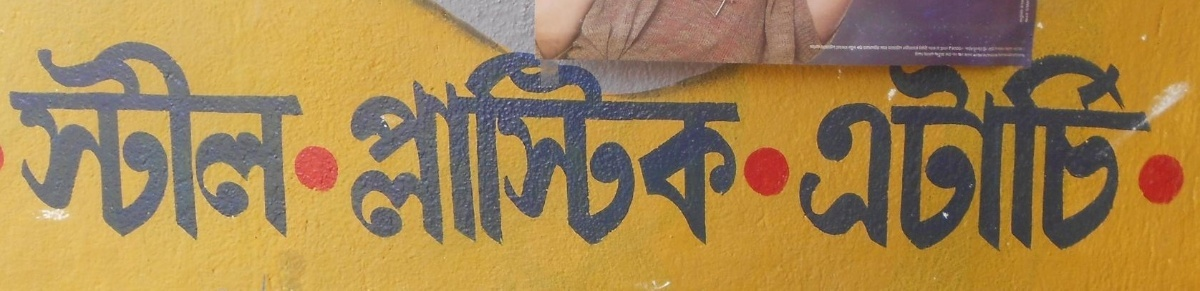text: (353, 49, 368, 254), (369, 49, 384, 254), (385, 49, 400, 254), (401, 49, 416, 254), (417, 49, 432, 254), (433, 49, 448, 254), (449, 49, 464, 254), (465, 49, 480, 254), (481, 49, 496, 254), (497, 49, 512, 254), (513, 49, 528, 254), (529, 49, 544, 254), (545, 49, 560, 254), (561, 49, 576, 254), (577, 49, 592, 254), (593, 49, 608, 254), (609, 49, 624, 254), (625, 49, 640, 254), (641, 49, 656, 254), (657, 49, 672, 254), (673, 49, 688, 254), (689, 49, 704, 254), (705, 49, 720, 254), (721, 49, 736, 254), (801, 52, 816, 255), (817, 52, 832, 255), (833, 52, 848, 255), (849, 52, 864, 255), (865, 52, 880, 255), (881, 52, 896, 255), (897, 52, 912, 255), (913, 52, 928, 255), (929, 52, 944, 255), (945, 52, 960, 255), (961, 52, 976, 255), (977, 52, 992, 255), (993, 52, 1008, 255), (1009, 52, 1024, 255), (1025, 52, 1040, 255), (1041, 52, 1056, 255), (1057, 52, 1072, 255), (1073, 52, 1088, 255), (1089, 52, 1104, 255), (1105, 52, 1120, 255), (1121, 52, 1136, 255), (1137, 52, 1152, 255), (17, 41, 32, 242), (33, 41, 48, 242), (49, 41, 64, 242), (65, 41, 80, 242), (81, 41, 96, 242), (97, 41, 112, 242), (113, 41, 128, 242), (129, 41, 144, 242), (145, 41, 160, 242), (161, 41, 176, 242), (177, 41, 192, 242), (193, 41, 208, 242), (209, 41, 224, 242), (225, 41, 240, 242), (241, 41, 256, 242), (257, 41, 272, 242), (273, 41, 288, 242), (289, 41, 304, 242), (737, 49, 746, 254), (8, 41, 16, 242), (1153, 52, 1157, 255), (797, 52, 800, 255), (305, 41, 306, 242), (817, 45, 832, 57), (833, 45, 848, 57), (849, 45, 864, 57), (865, 45, 880, 57), (881, 45, 896, 57), (897, 45, 912, 57), (913, 45, 928, 57), (929, 45, 944, 57), (945, 45, 960, 57), (961, 45, 976, 57), (977, 45, 992, 57), (993, 45, 1008, 57), (1009, 45, 1024, 57), (1017, 2, 1024, 26), (1025, 2, 1031, 26), (810, 45, 816, 57)
